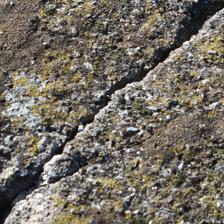Crack: (0, 28, 84, 139), (1, 36, 99, 88), (51, 0, 105, 81)
